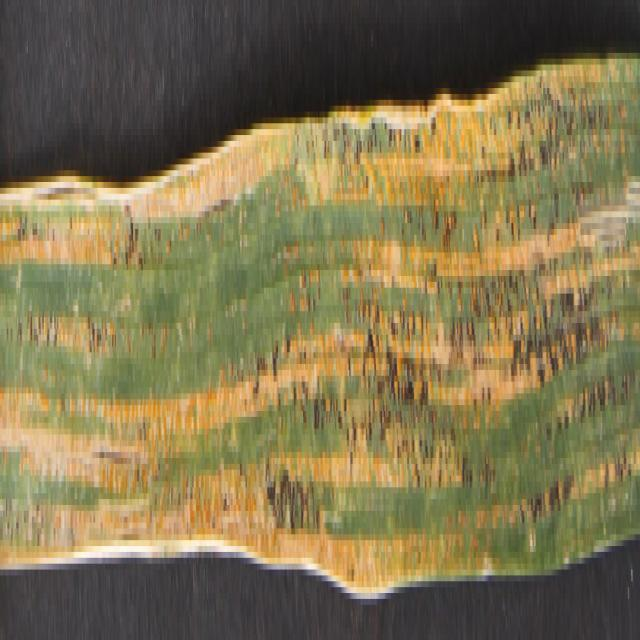leaf rust: (1, 59, 640, 587)
